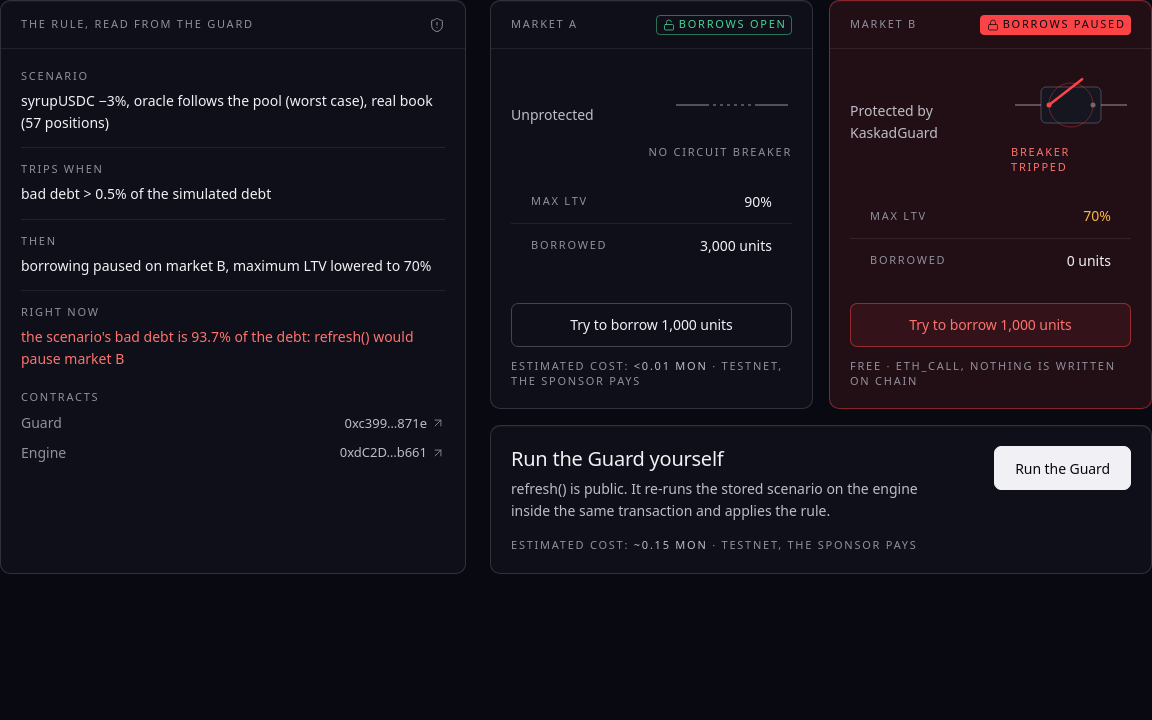
Test: GuardLive › visualizes the free pre-check revert on the paused market
This screenshot has width=1152, height=720.
What coordinates should you click on to do the following:
click the button "Try to borrow 1,000 units" below "Breaker tripped"
I would click on:
 (990, 325)
Its box is [850, 303, 1131, 347].
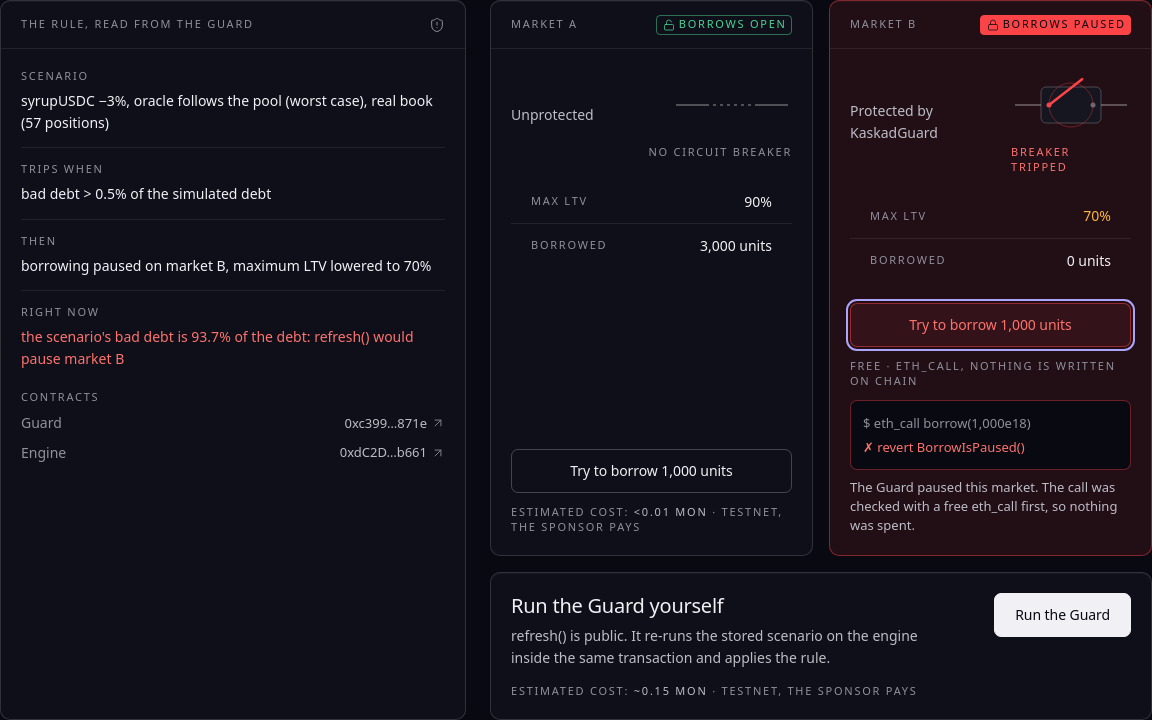
Expected: the text "✗ revert BorrowIsPaused()" is shown, [863, 438, 1025, 456]
Expected: the text "nothing was spent" is shown, [850, 478, 1117, 534]
